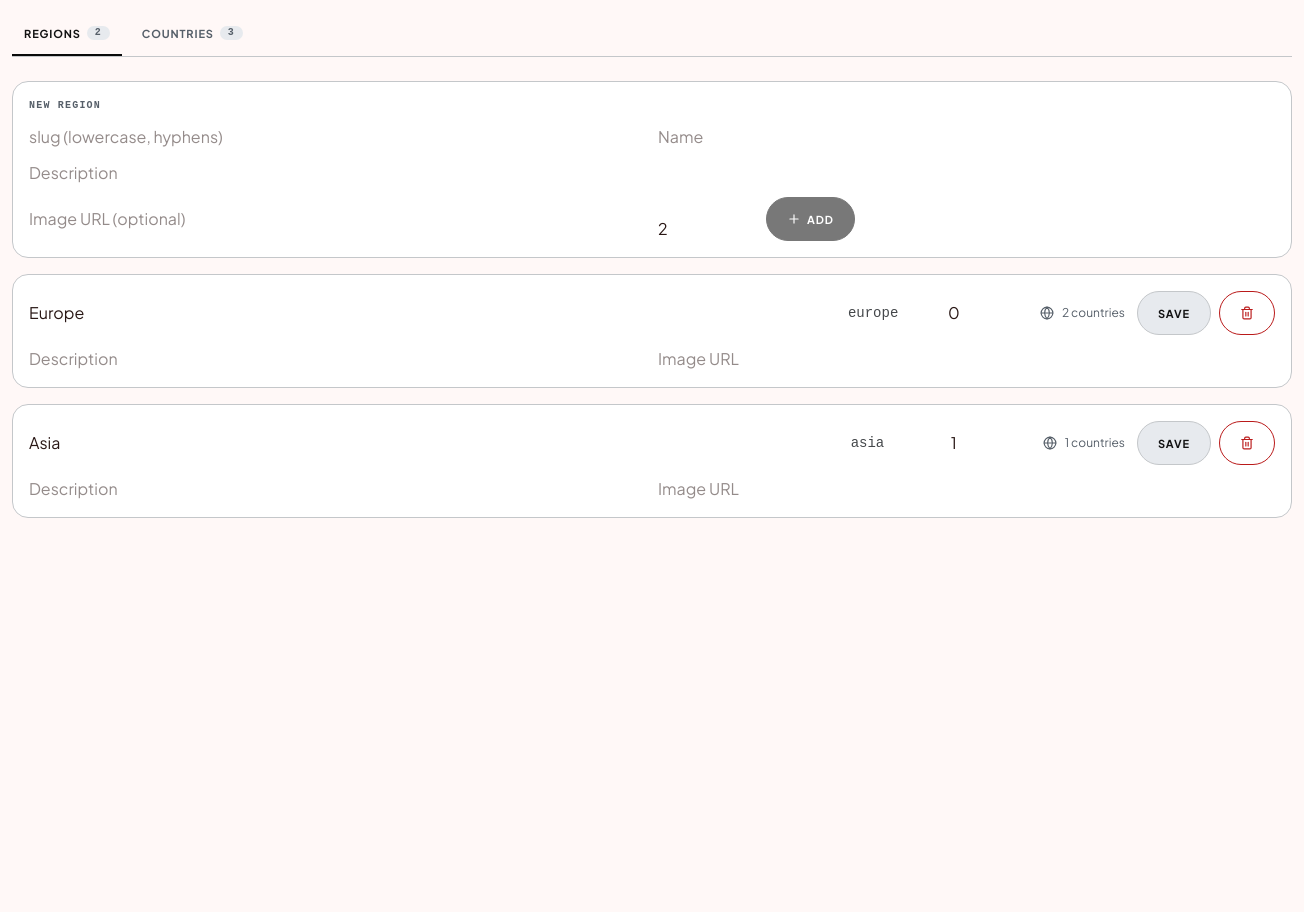
Test: RegionManager › filters countries by search query
Click the button "Countries 3". click: [192, 34]
box: [130,12,255,56]
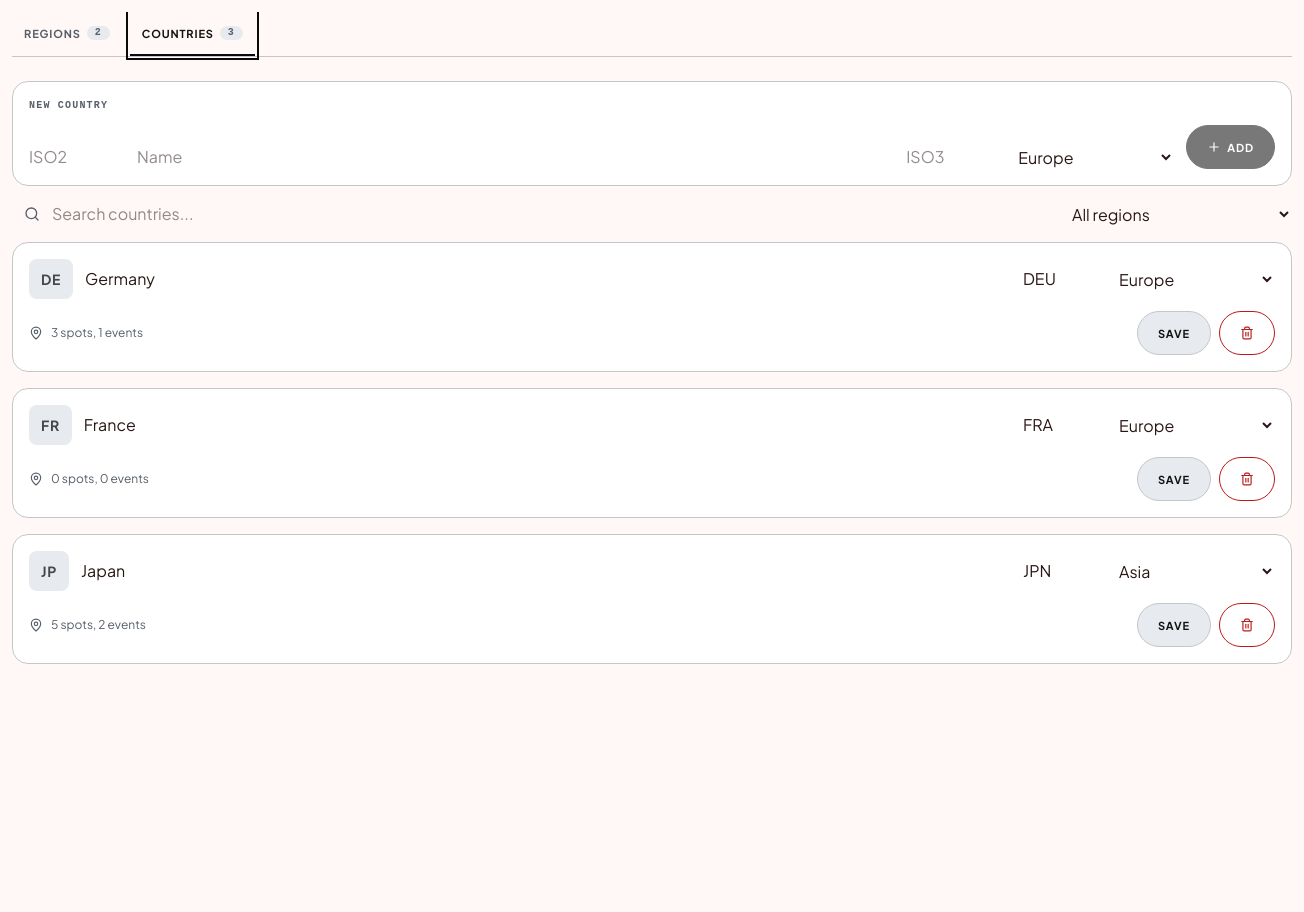
Type "ger" into the search field labelled "Search countries". click: [534, 214]
box: [12,202,1056,226]
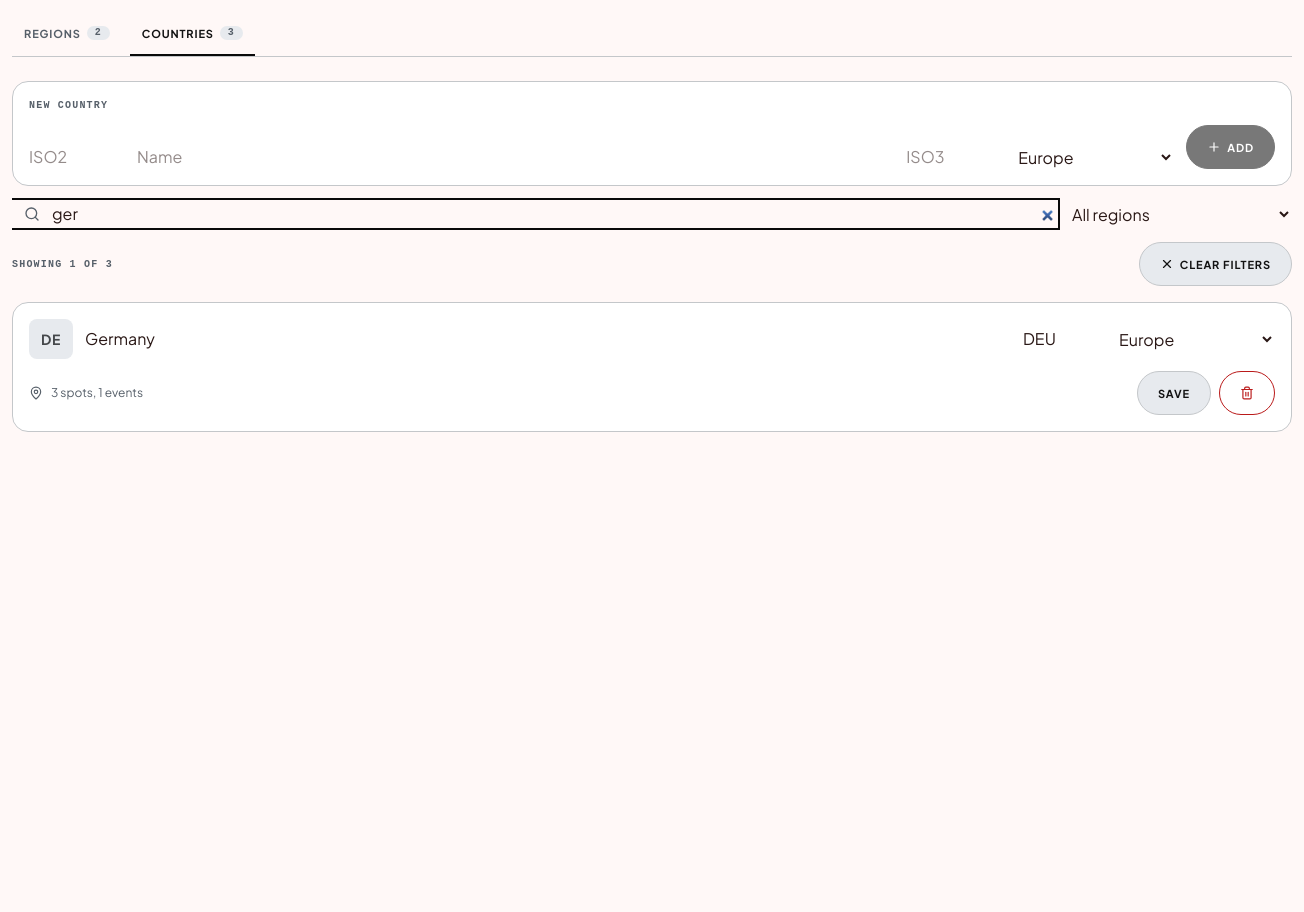
Expected: the field showing "France" is not shown
Result: the field showing "Germany" is shown at [85,327,1011,351]
Result: the text "Showing 1 of 3" is shown at [12,256,113,272]
